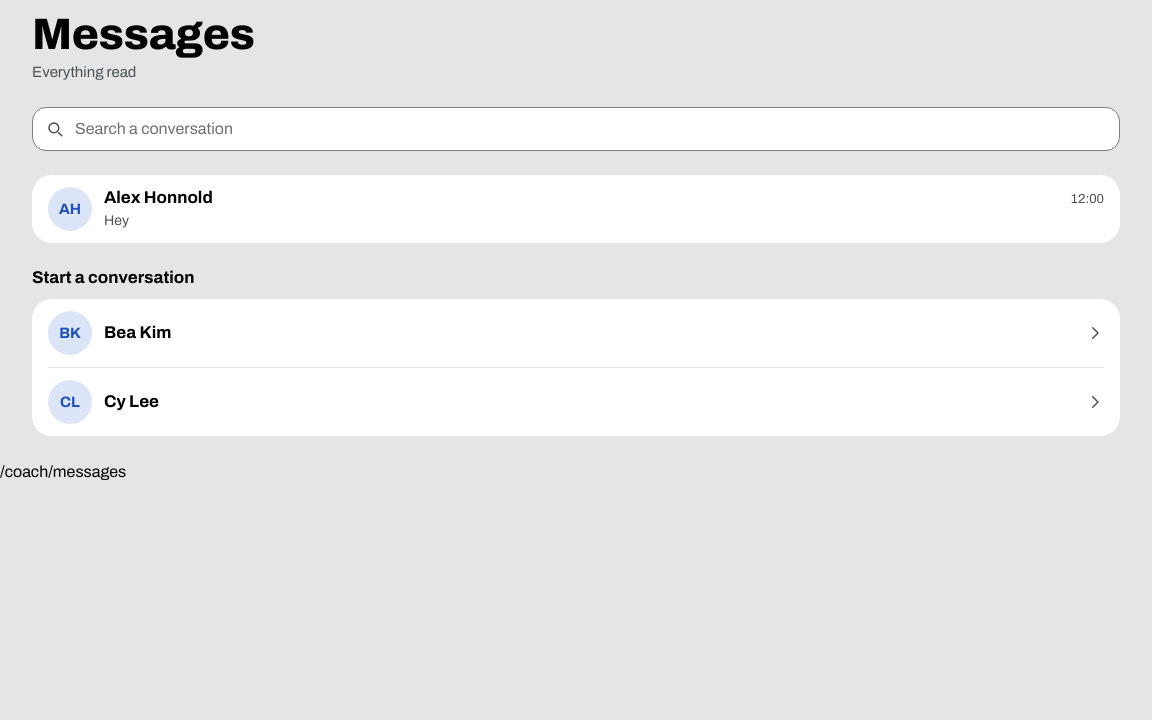
it: CoachMessages — the list › the search keeps the athletes to start a conversation with whose name holds it
In the search field labelled "Search a conversation": (576, 129) [32,107,1120,151], type "bea"
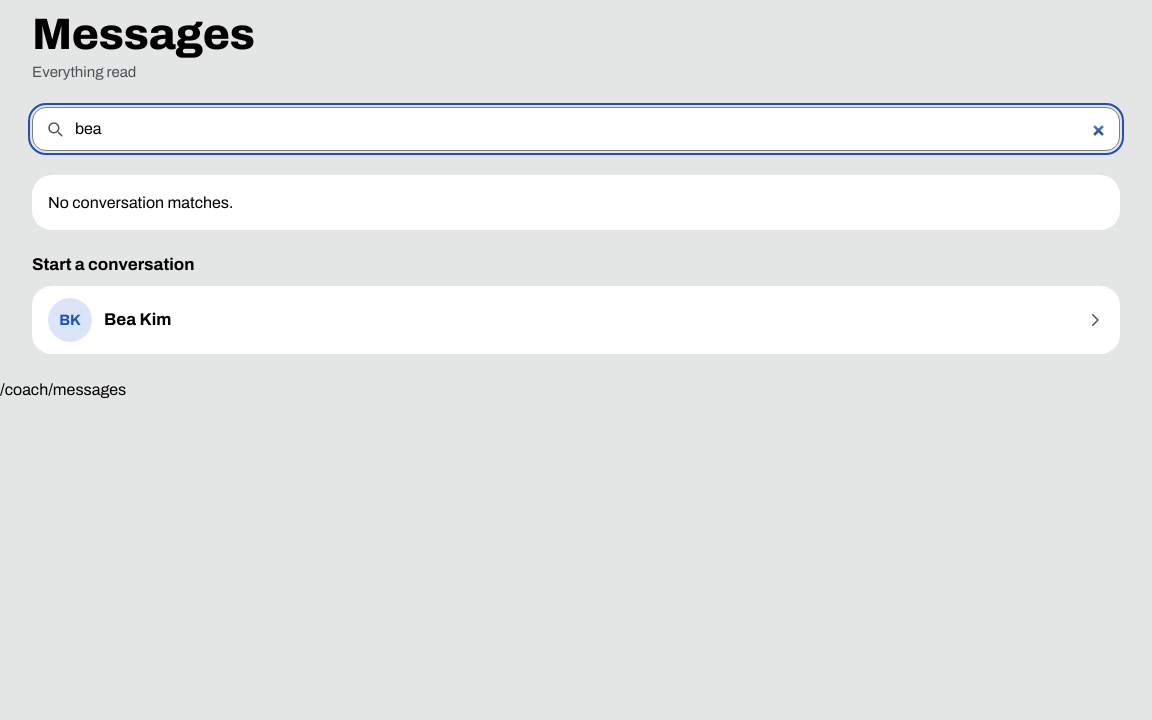
Expected: the link "BK Bea Kim" is shown, [48,286,1104,354]
Now the text "No conversation matches." is shown, box [32,175,1120,230]
Now the link "Cy Lee" is gone
